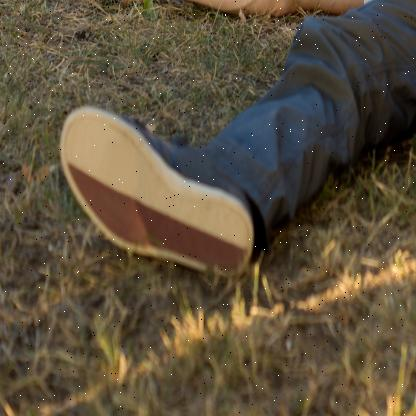leg: (52, 86, 307, 302)
